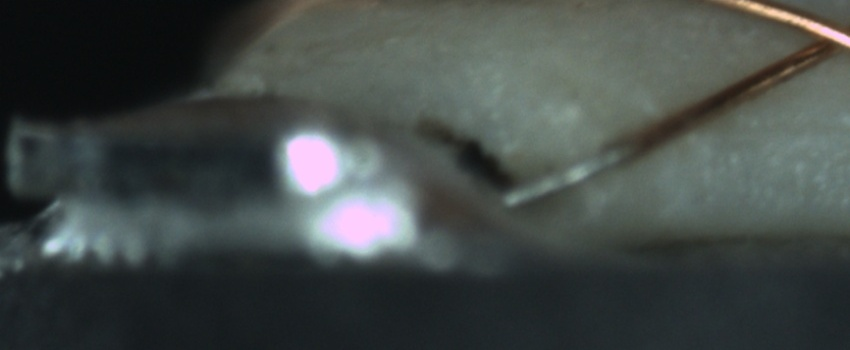CL: (791, 8, 848, 64)
DL: (681, 98, 850, 162)
TS: (498, 140, 636, 210)
